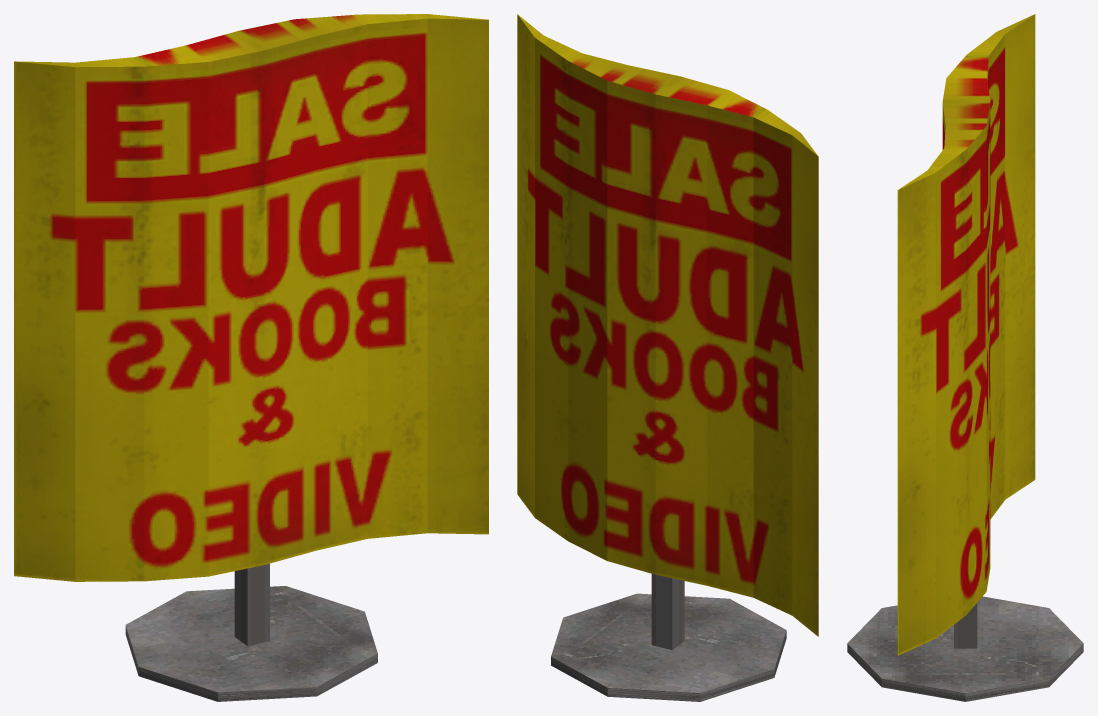
File: dyn_street_sign_1.obj
3 views of the same model, side by side, from view 1: azimuth 30°, elevation 25°; view 2: azimuth 150°, elevation 25°; view 3: azimuth 270°, elevation 25° (orthographic). The views are drawn at different scales.
Visible parts, largest first — view 1: DYN_STREET_SIGN_1; view 2: DYN_STREET_SIGN_1; view 3: DYN_STREET_SIGN_1.
Part boxes in pixels (box(x1,y1,x2,y2)): DYN_STREET_SIGN_1: box(14, 14, 488, 701); DYN_STREET_SIGN_1: box(517, 14, 818, 701); DYN_STREET_SIGN_1: box(847, 14, 1083, 701).
Bounding box in the file's own units: 0.8788 × 1.28 × 0.4986.
